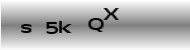5: (45, 21, 58, 34)
Q: (87, 17, 104, 32)
X: (103, 6, 119, 20)
k: (57, 20, 72, 34)
s: (20, 23, 32, 33)
